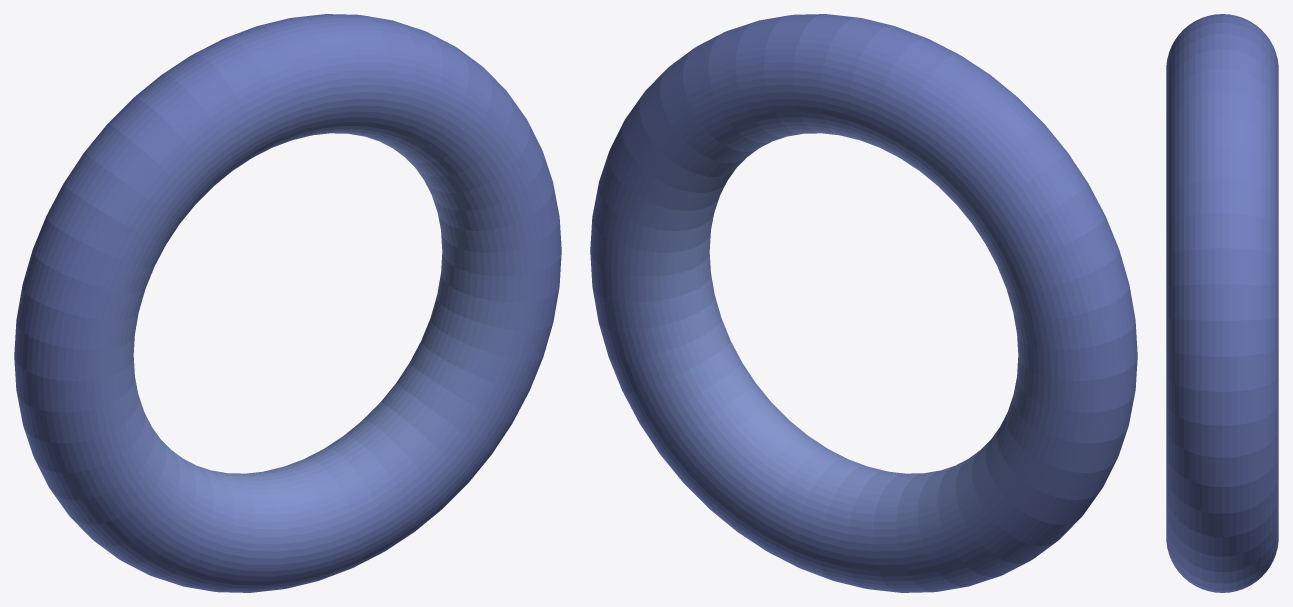
3 renders of one model, left to right at view 1: azimuth 30°, elevation 25°; view 2: azimuth 150°, elevation 25°; view 3: azimuth 270°, elevation 25°, orthographic. The views are drawn at different scales.
Parts seen in each view (by area): view 1: world; view 2: world; view 3: world.
Boxes of the visible parts, x1=… form: world: x1=14, y1=14, x2=561, y2=592; world: x1=590, y1=14, x2=1137, y2=592; world: x1=1166, y1=14, x2=1278, y2=592.
Bounding box in the file's own units: 19.87 × 19.83 × 3.86.
